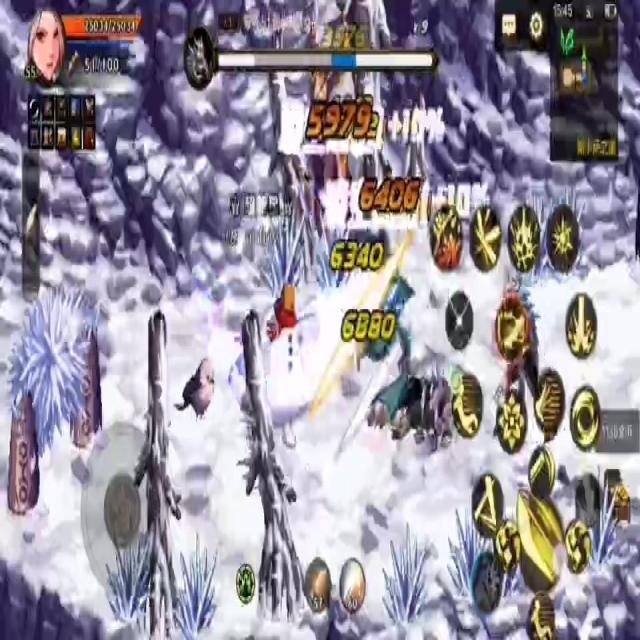player: (260, 282, 307, 454)
